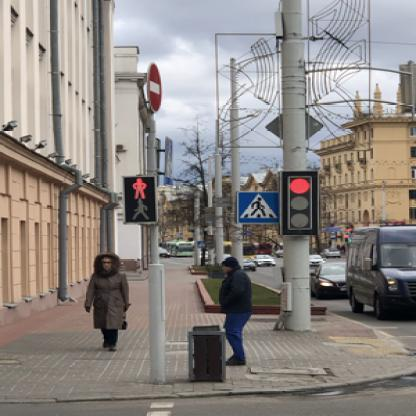crosswalk: (234, 190, 280, 222), (196, 240, 205, 248)
trafficlight: (119, 174, 157, 224), (286, 174, 310, 228)
